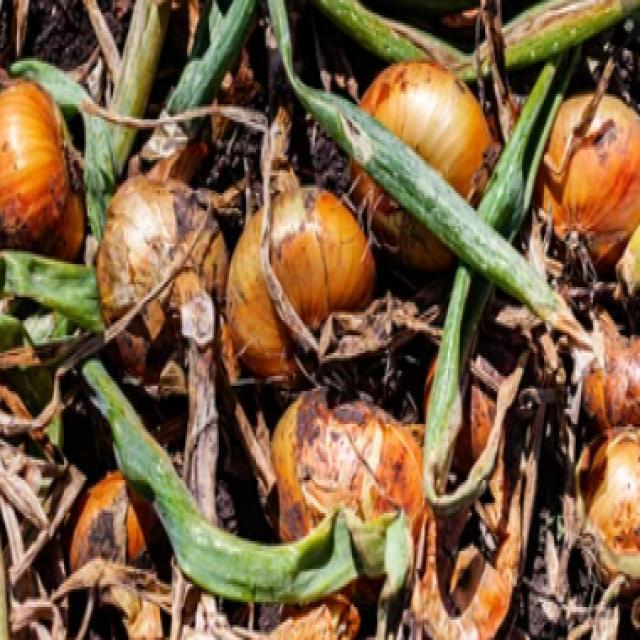rotten: (562, 320, 635, 424), (296, 412, 386, 490), (152, 172, 224, 262)
sprouting: (252, 117, 294, 178)
